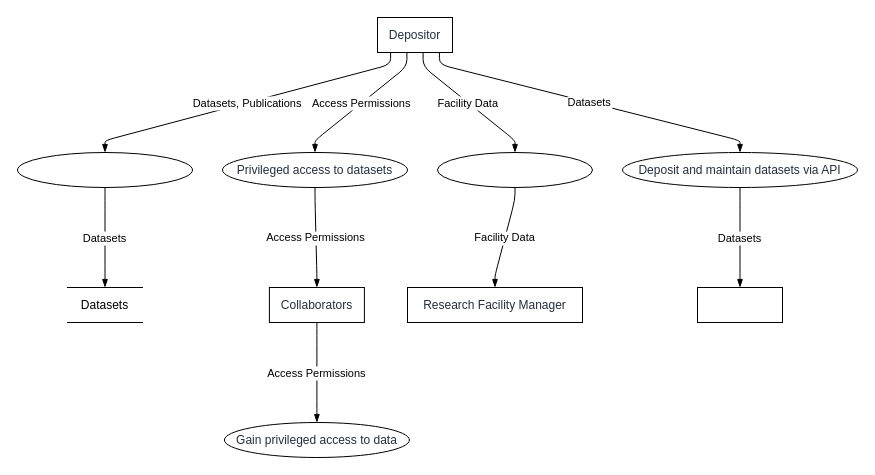
Some shapes in this 875 by 475 pixel diagram are drawn without their labels. Each missing label, with the centre of its shape:
"Deposit data from facility" belongs at [514,170].
"Developer" belongs at [739,304].
"Link datasets to publications" belongs at [104,170].
